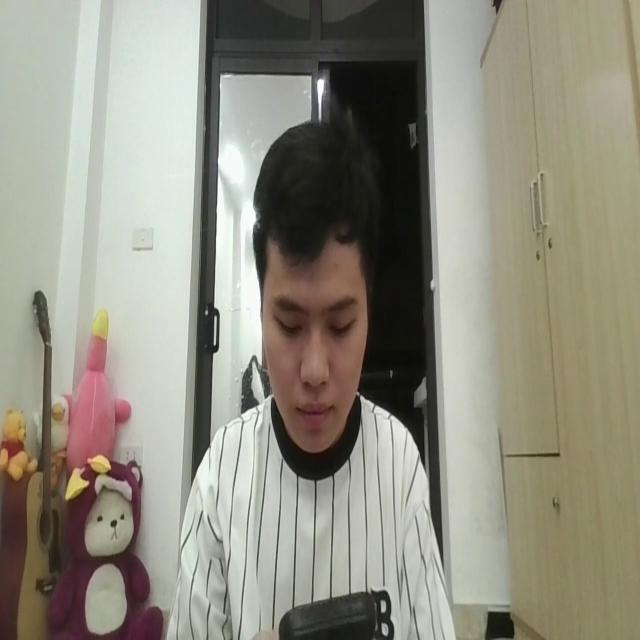book: (276, 579, 375, 640)
student: (175, 112, 456, 640)
